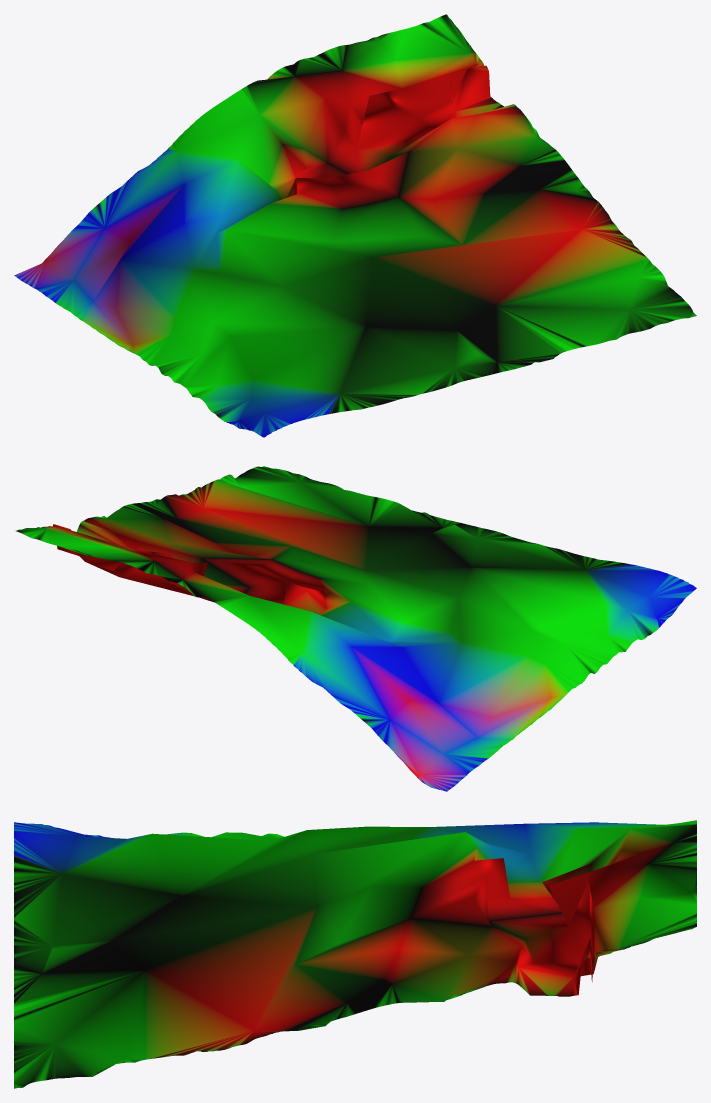
The model's file is N_2_1_anel.glb.
3 renders of one model, top to bottom at view 1: azimuth 30°, elevation 25°; view 2: azimuth 150°, elevation 25°; view 3: azimuth 270°, elevation 25°, orthographic. The views are drawn at different scales.
Parts seen in each view (by area): view 1: N_2_1; view 2: N_2_1; view 3: N_2_1.
Boxes of the visible parts, bbox=[...] form: N_2_1: bbox=[14, 14, 696, 437]; N_2_1: bbox=[16, 466, 696, 791]; N_2_1: bbox=[14, 820, 696, 1088].
Bounding box in the file's own units: 256 × 87.94 × 256.
